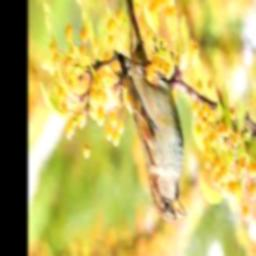Sparrow: (118, 0, 186, 224)
